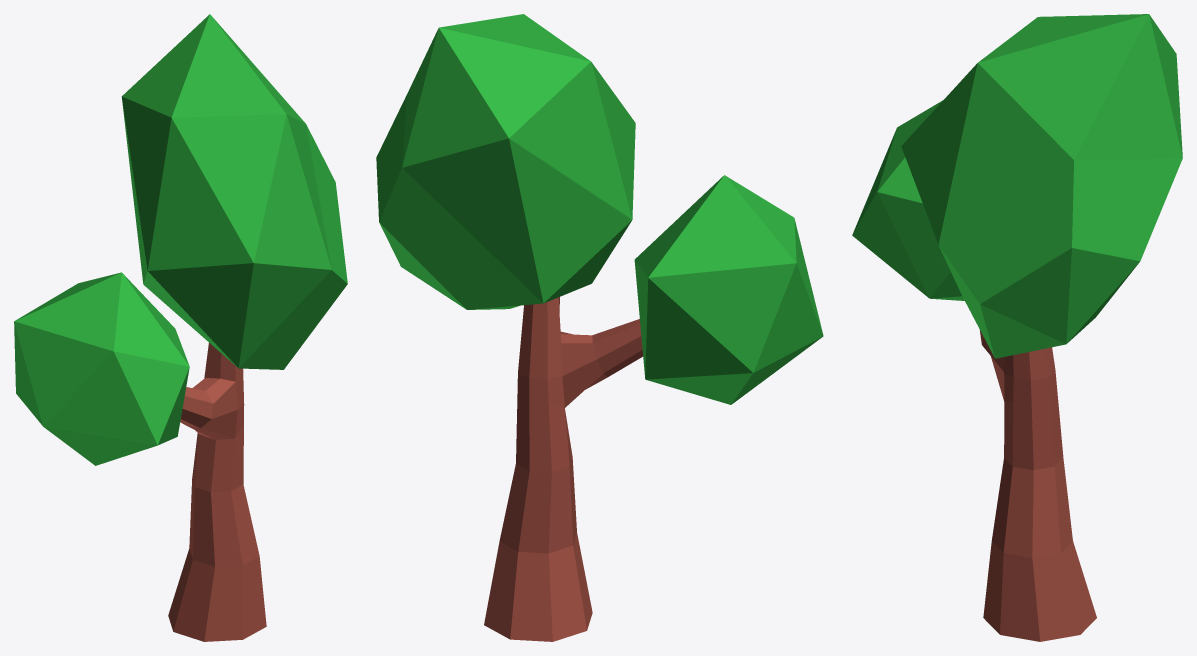
The model's file is дерево-1.fbx.
3 renders of one model, left to right at view 1: azimuth 30°, elevation 25°; view 2: azimuth 150°, elevation 25°; view 3: azimuth 270°, elevation 25°, orthographic. The views are drawn at different scales.
Parts seen in each view (by area): view 1: Дерево большое; view 2: Дерево большое; view 3: Дерево большое.
Part boxes in pixels (<box>): Дерево большое: <box>14,14,347,641</box>; Дерево большое: <box>376,14,823,641</box>; Дерево большое: <box>852,14,1182,641</box>.
Bounding box in the file's own units: 3.84 × 5.87 × 2.81.
